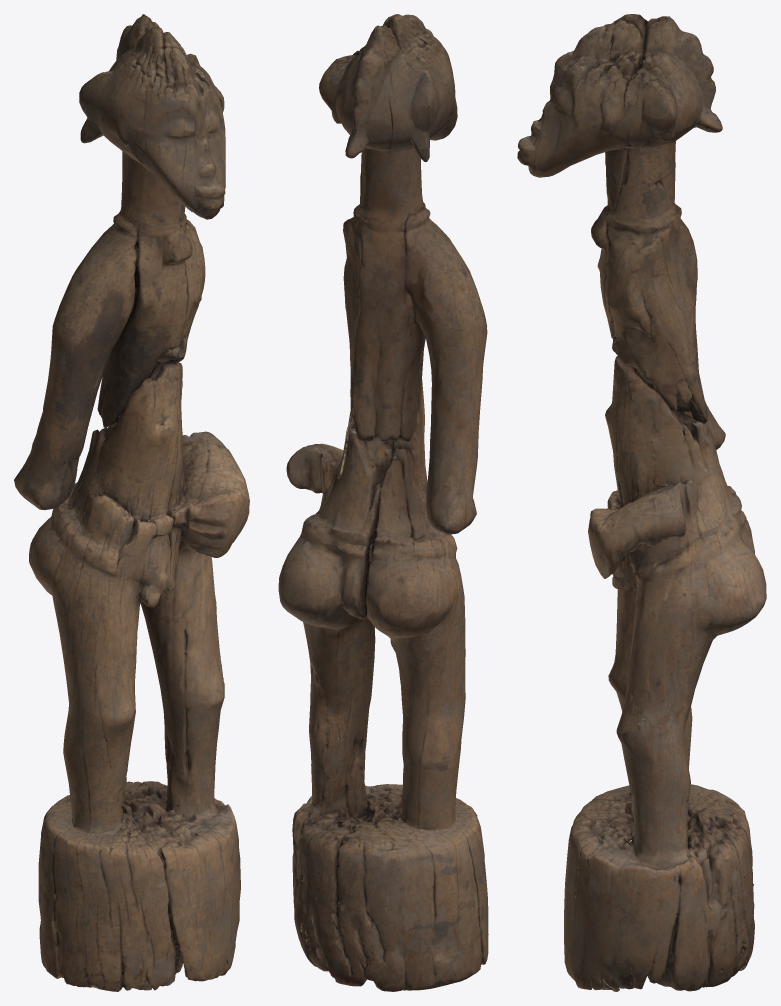
Rendered from preview.glb.
3 renders of one model, left to right at view 1: azimuth 30°, elevation 25°; view 2: azimuth 150°, elevation 25°; view 3: azimuth 270°, elevation 25°, orthographic. The views are drawn at different scales.
Visible parts, largest first — view 1: ADVIMG_1978_412_315_MalePoroFigure_Model_3_ADVIMG_1978_412_3; view 2: ADVIMG_1978_412_315_MalePoroFigure_Model_3_ADVIMG_1978_412_3; view 3: ADVIMG_1978_412_315_MalePoroFigure_Model_3_ADVIMG_1978_412_3.
Boxes of the visible parts, left/top/right/bottom form: ADVIMG_1978_412_315_MalePoroFigure_Model_3_ADVIMG_1978_412_3: left=14, top=14, right=249, bottom=991; ADVIMG_1978_412_315_MalePoroFigure_Model_3_ADVIMG_1978_412_3: left=278, top=14, right=488, bottom=991; ADVIMG_1978_412_315_MalePoroFigure_Model_3_ADVIMG_1978_412_3: left=517, top=14, right=766, bottom=991.
Bounding box in the file's own units: 0.2258 × 1.07 × 0.2516.
Materials: 1 (1 with a texture image).
